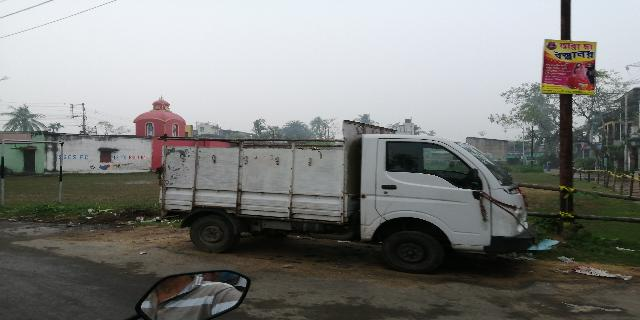Minitruck: (153, 131, 535, 269)
